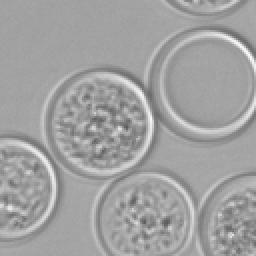picoshell: (40, 68, 154, 178), (148, 28, 254, 138), (90, 172, 194, 254), (0, 138, 56, 240), (198, 174, 254, 254), (162, 0, 244, 14)
